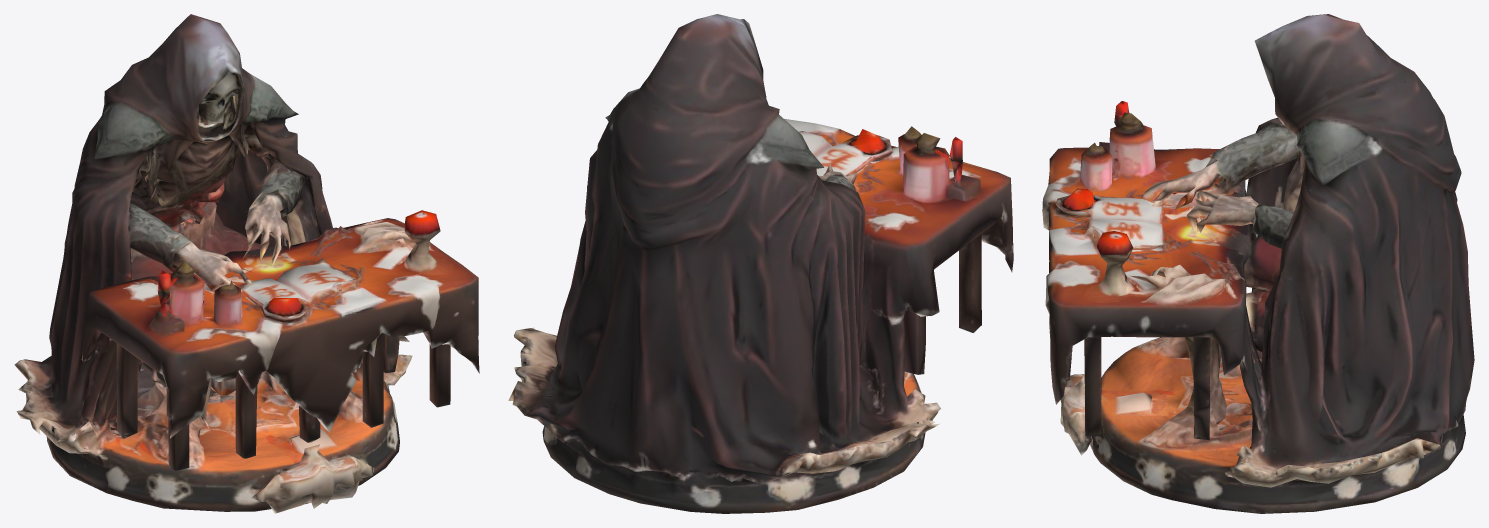
File: Skeletal Mage.glb
The picture shows the model from 3 angles, left to right: view 1: azimuth 30°, elevation 25°; view 2: azimuth 150°, elevation 25°; view 3: azimuth 270°, elevation 25°; orthographic projection. The views are drawn at different scales.
Parts seen in each view (by area): view 1: Mesh1.0; view 2: Mesh1.0; view 3: Mesh1.0.
Boxes of the visible parts, x1=… form: Mesh1.0: x1=14, y1=14, x2=479, y2=513; Mesh1.0: x1=508, y1=14, x2=1013, y2=513; Mesh1.0: x1=1042, y1=14, x2=1474, y2=513.
Size of the model in its own units: 1.87 by 1.92 by 1.75.
1 material, 1 textured.
